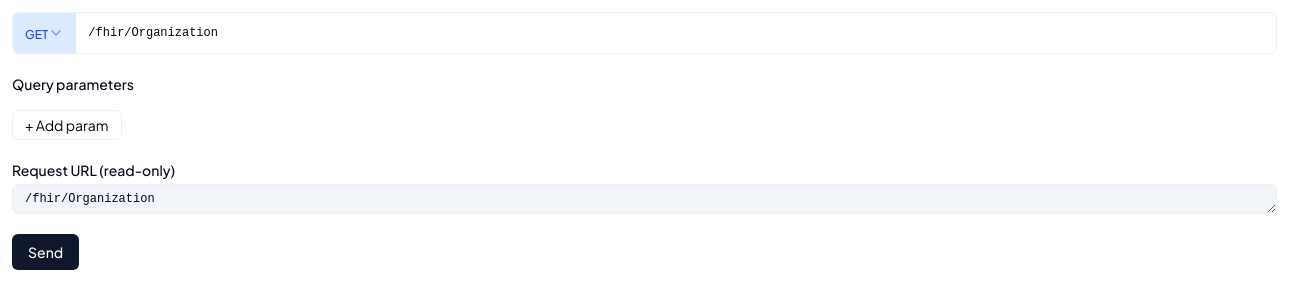
Test: AdminRequestBuilder › Endpoint input › filters endpoints when method changes to DELETE
Note: Open method dropdown and select DELETE
Step 1. Click the dropdown → click(45, 33), box [13, 13, 76, 53]
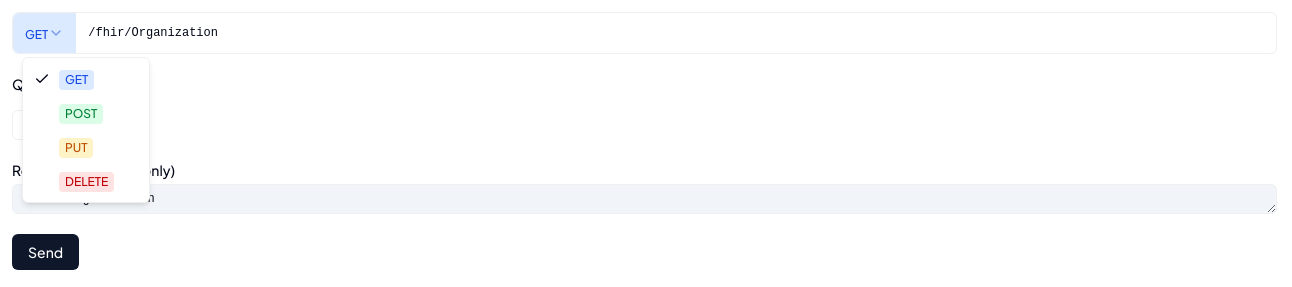
Step 2. Click the option "DELETE" → click(87, 182), box [59, 172, 114, 192]
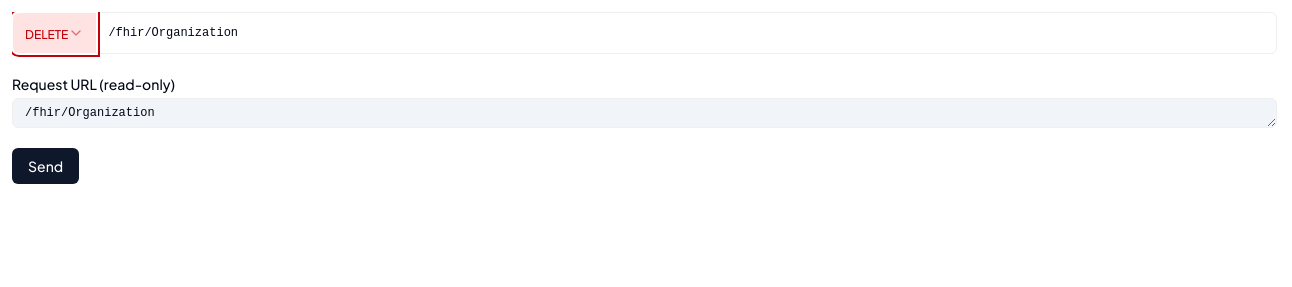
Note: Focus endpoint input
Step 3. Click the field named "endpoint" → click(686, 33), box [96, 13, 1276, 53]
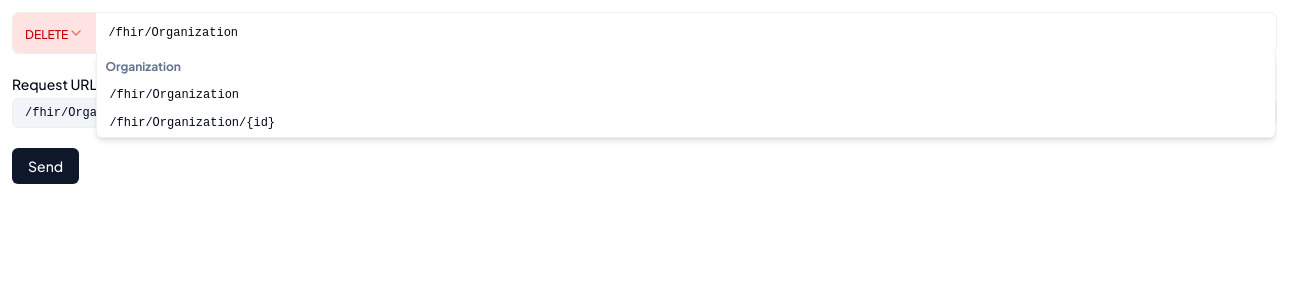
Check: the text "Organization" is shown, box [105, 59, 181, 74]
